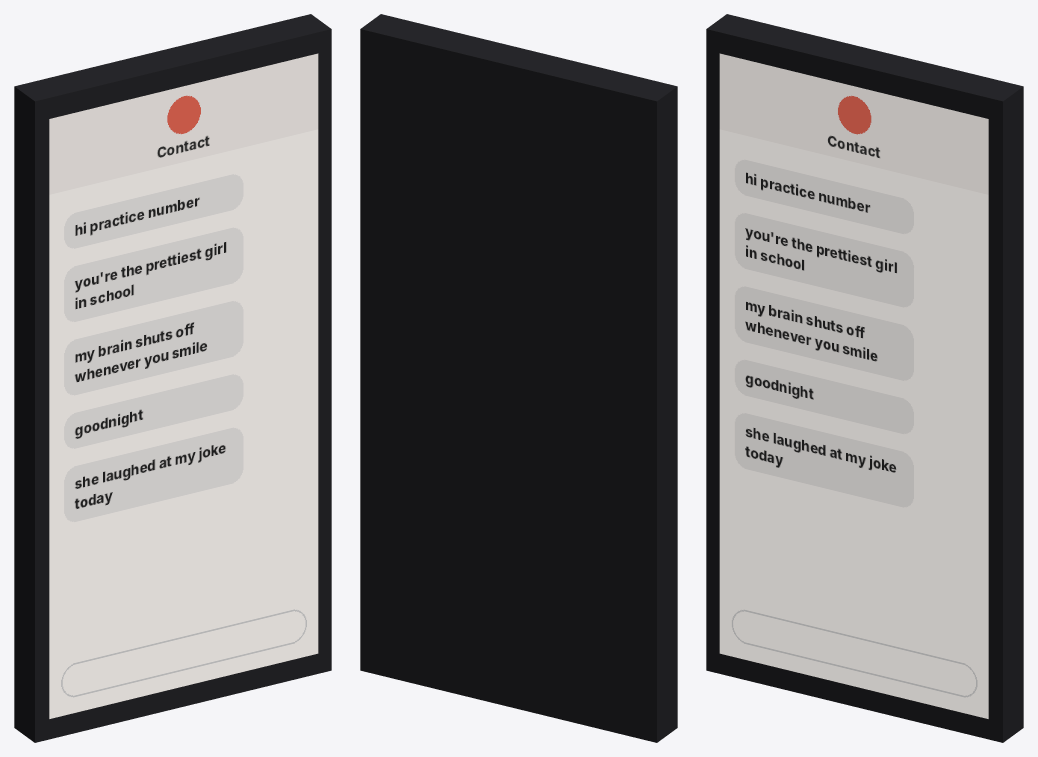
File: smartphone.glb
3 views of the same model, side by side, from view 1: azimuth 30°, elevation 25°; view 2: azimuth 150°, elevation 25°; view 3: azimuth 330°, elevation 25° (orthographic).
Parts seen in each view (by area): view 1: screen, smartphone; view 2: smartphone; view 3: screen, smartphone.
Part boxes in pixels (x1,y1,x2,y2): screen: (49,53,318,718); smartphone: (14,14,331,742); smartphone: (360,14,677,742); screen: (719,53,988,718); smartphone: (706,14,1023,742).
Size of the model in its own units: 0.075 by 0.155 by 0.0092.
Materials: 2 (1 with a texture image).
